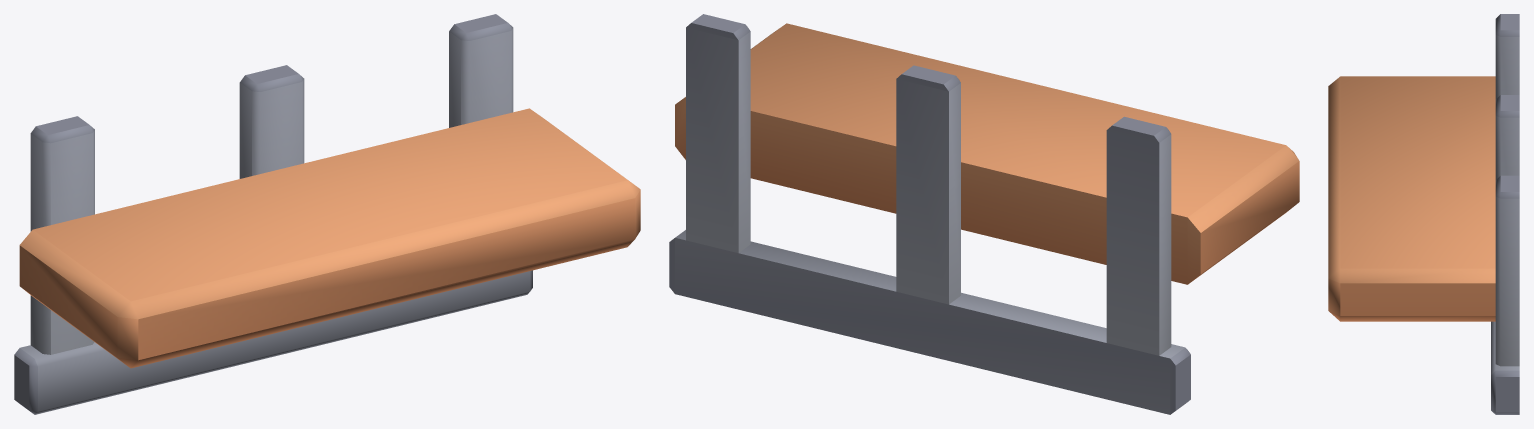
Rendered from wall-shelf-bakery-a.glb.
3 renders of one model, left to right at view 1: azimuth 30°, elevation 25°; view 2: azimuth 150°, elevation 25°; view 3: azimuth 270°, elevation 25°, orthographic. The views are drawn at different scales.
Parts seen in each view (by area): view 1: wall_shelf_bakery_A; view 2: wall_shelf_bakery_A; view 3: wall_shelf_bakery_A.
Part boxes in pixels (bbox=[...]): wall_shelf_bakery_A: bbox=[14, 14, 640, 414]; wall_shelf_bakery_A: bbox=[669, 14, 1299, 414]; wall_shelf_bakery_A: bbox=[1328, 14, 1519, 414].
Bounding box in the file's own units: 2 × 1 × 0.8.
Materials: 1 (1 with a texture image).
